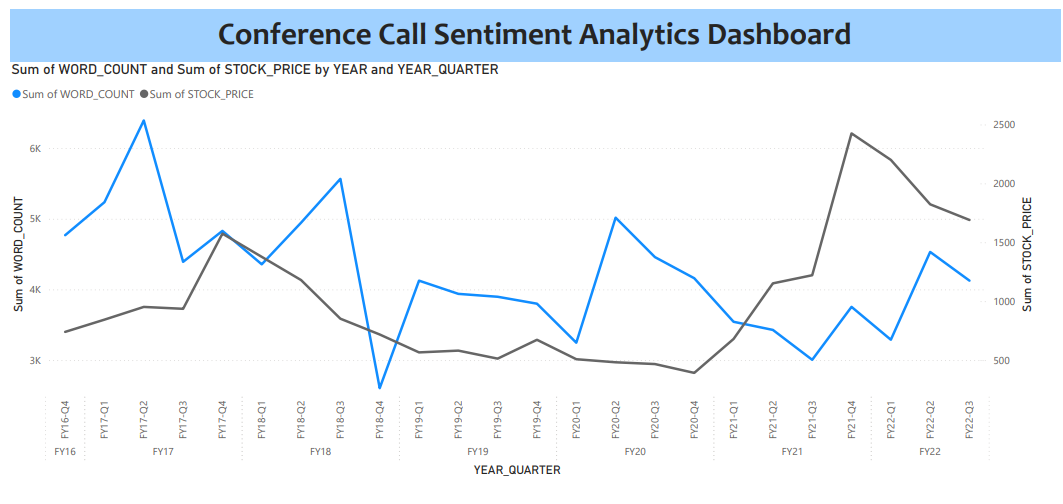

The dashboard page shown, as its layout file describes it:
{"tool":"powerbi","page":{"name":"Price vs Content","canvas":[1280,720],"ordinal":3},"visuals":[{"type":"lineChart","fields":{"Y":["Sum(sentiment_analysis (3).WORD_COUNT)"],"Y2":["Sum(sentiment_analysis (3).STOCK_PRICE)"],"Category":["sentiment_analysis (3).YEAR","sentiment_analysis (3).YEAR_QUARTER"]},"box":[10.4,73,1235.6,503.8],"z":0},{"type":"textbox","box":[12.5,10.8,1259.8,62.6],"z":1000}]}

Visuals, with their boxes on the page's 1280x720 design canvas (x1, y1, x2, y2). These are canvas units, not pixel positions in the 1063x504 screenshot, which may show the page scaled, cropped or inside an application window:
lineChart - Sum(sentiment_analysis (3).WORD_COUNT) x Sum(sentiment_analysis (3).STOCK_PRICE): <region>10, 73, 1246, 577</region>
textbox: <region>12, 11, 1272, 73</region>
